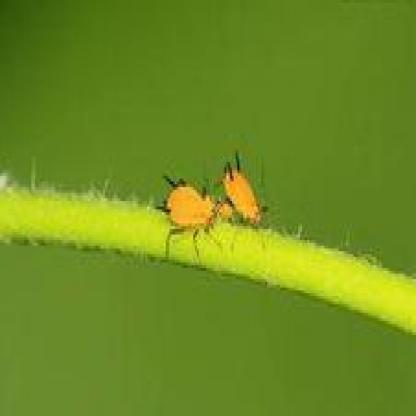aphid: (158, 172, 220, 265), (220, 154, 267, 227)
